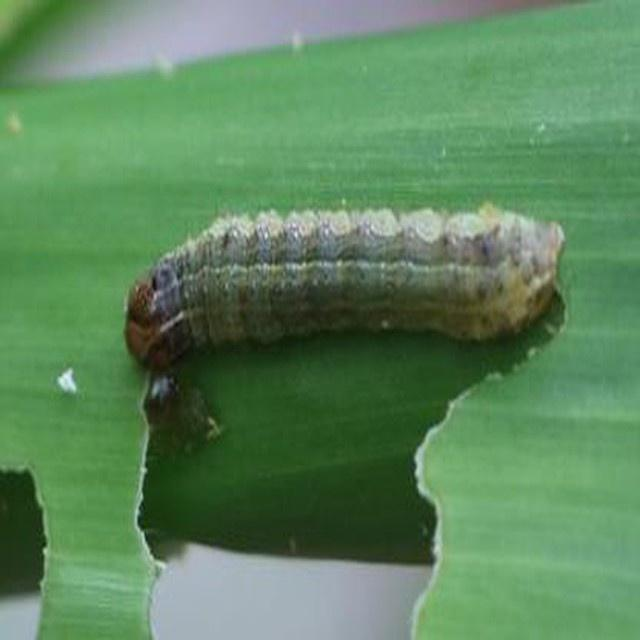gusano_cogollero: (121, 198, 574, 378)
